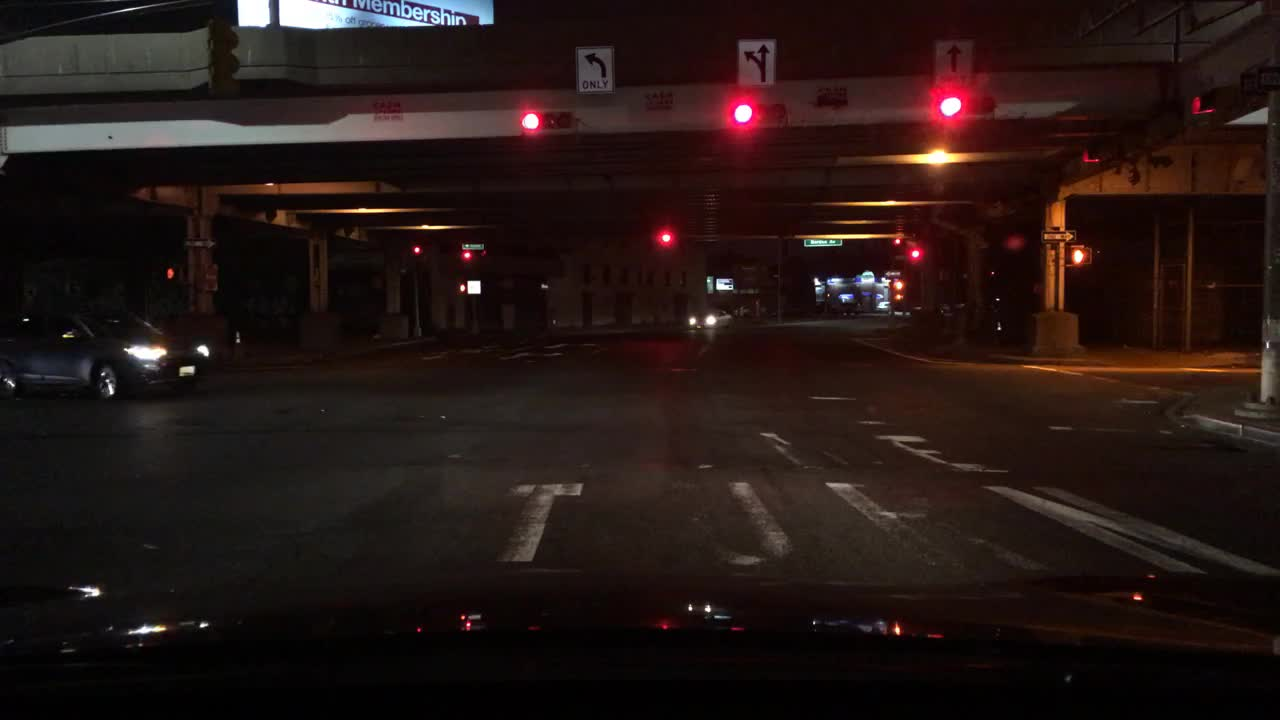car: (0, 305, 211, 403), (687, 308, 732, 330), (732, 303, 769, 319), (840, 301, 862, 318), (875, 300, 891, 313)
traffic light: (935, 93, 991, 119), (731, 101, 787, 125), (521, 109, 575, 132), (1190, 91, 1222, 119), (1079, 145, 1108, 169), (1070, 245, 1092, 268), (656, 229, 679, 247), (907, 245, 926, 262), (164, 265, 184, 281), (410, 245, 423, 257), (893, 280, 906, 292), (462, 250, 472, 261), (457, 283, 467, 294)
traffic sign: (574, 43, 618, 95), (735, 36, 778, 87), (934, 38, 975, 79), (1239, 67, 1279, 92), (1039, 229, 1077, 246), (801, 237, 845, 249), (186, 234, 216, 249), (203, 265, 219, 292), (715, 276, 736, 291), (460, 241, 485, 253), (704, 276, 717, 296), (736, 286, 762, 296), (883, 268, 903, 281), (771, 270, 783, 280)
